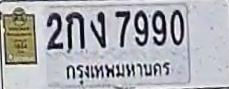0: (170, 9, 183, 44)
2: (46, 11, 62, 48)
7: (114, 9, 129, 47)
9: (133, 9, 148, 45), (151, 9, 166, 45)
A01: (66, 11, 84, 49)
A07: (89, 11, 106, 47)
BKK: (61, 59, 174, 85)
